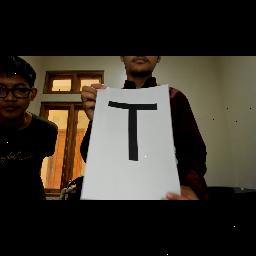t: (104, 96, 164, 170)
